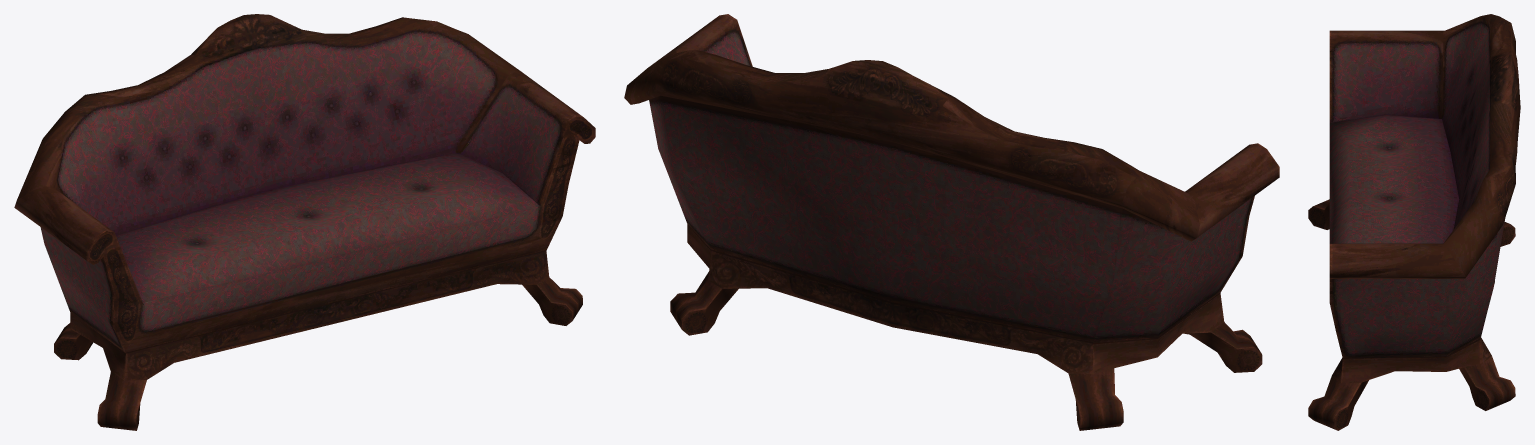
File: sofa_alt_grayred.dae
3 renders of one model, left to right at view 1: azimuth 30°, elevation 25°; view 2: azimuth 150°, elevation 25°; view 3: azimuth 270°, elevation 25°, orthographic. The views are drawn at different scales.
Visible parts, largest first — view 1: polySurface2; view 2: polySurface2; view 3: polySurface2.
Part boxes in pixels (box(x1,y1,x2,y2)): polySurface2: box(14, 14, 595, 430); polySurface2: box(624, 14, 1279, 430); polySurface2: box(1308, 14, 1520, 430).
Bounding box in the file's own units: 2.4 × 1.29 × 0.9348.
1 material, 1 textured.
